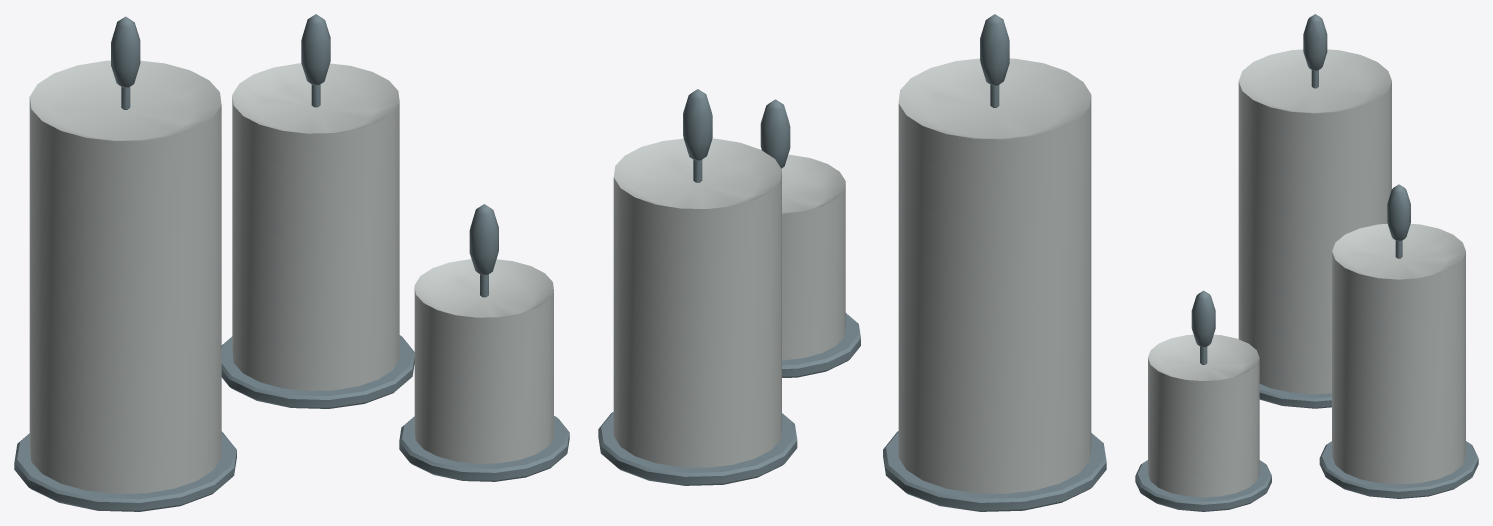
Rendered from candles.glb.
3 renders of one model, left to right at view 1: azimuth 30°, elevation 25°; view 2: azimuth 150°, elevation 25°; view 3: azimuth 270°, elevation 25°, orthographic. The views are drawn at different scales.
Parts seen in each view (by area): view 1: pillar_candle_0, pillar_candle_1, pillar_candle_2, candle_coaster, candle_coaster.001, candle_coaster.002, flame.001, flame.002, flame; view 2: pillar_candle_0, pillar_candle_1, pillar_candle_2, candle_coaster, candle_coaster.001, candle_coaster.002, flame, flame.001, flame.002; view 3: pillar_candle_0, pillar_candle_1, pillar_candle_2, candle_coaster.001, candle_coaster.002, flame, flame.002, candle_coaster, flame.001.
Part boxes in pixels (<box>): pillar_candle_0: <box>29,60,221,493</box>; pillar_candle_1: <box>232,63,399,390</box>; pillar_candle_2: <box>414,259,553,463</box>; candle_coaster: <box>14,431,236,511</box>; candle_coaster.001: <box>221,335,414,408</box>; candle_coaster.002: <box>399,416,569,481</box>; flame.001: <box>301,14,330,85</box>; flame.002: <box>469,204,498,275</box>; flame: <box>111,16,140,87</box>; pillar_candle_0: <box>898,58,1091,493</box>; pillar_candle_1: <box>613,138,781,467</box>; pillar_candle_2: <box>781,154,845,360</box>; candle_coaster: <box>883,431,1106,511</box>; candle_coaster.001: <box>598,412,797,485</box>; candle_coaster.002: <box>782,313,860,377</box>; flame: <box>980,14,1009,85</box>; flame.001: <box>683,89,712,160</box>; flame.002: <box>760,99,790,168</box>; pillar_candle_0: <box>1238,49,1391,394</box>; pillar_candle_1: <box>1332,223,1465,484</box>; pillar_candle_2: <box>1148,334,1259,497</box>; candle_coaster.001: <box>1319,441,1478,498</box>; candle_coaster.002: <box>1135,460,1271,511</box>; flame: <box>1303,14,1327,70</box>; flame.002: <box>1191,290,1215,347</box>; candle_coaster: <box>1259,384,1331,408</box>; flame.001: <box>1387,184,1410,240</box>.
Size of the model in its own units: 0.303 by 0.283 by 0.246.
